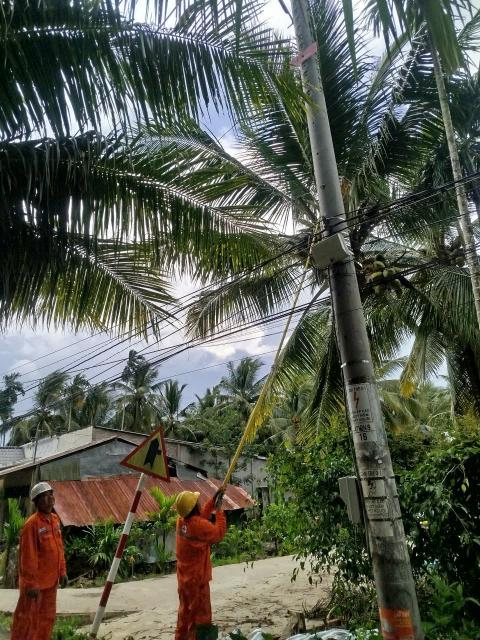helmet: (171, 488, 200, 518), (26, 480, 58, 503)
